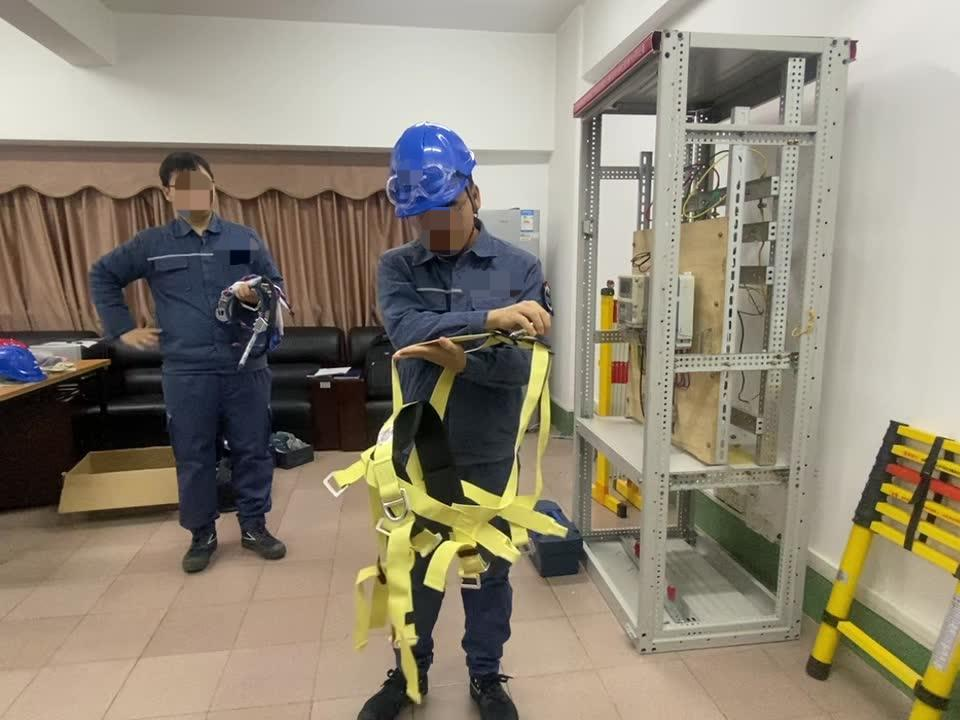halt: (388, 121, 485, 260)
inear: (467, 179, 487, 212)
noear: (161, 183, 181, 209)
unhalt: (161, 150, 222, 221)
